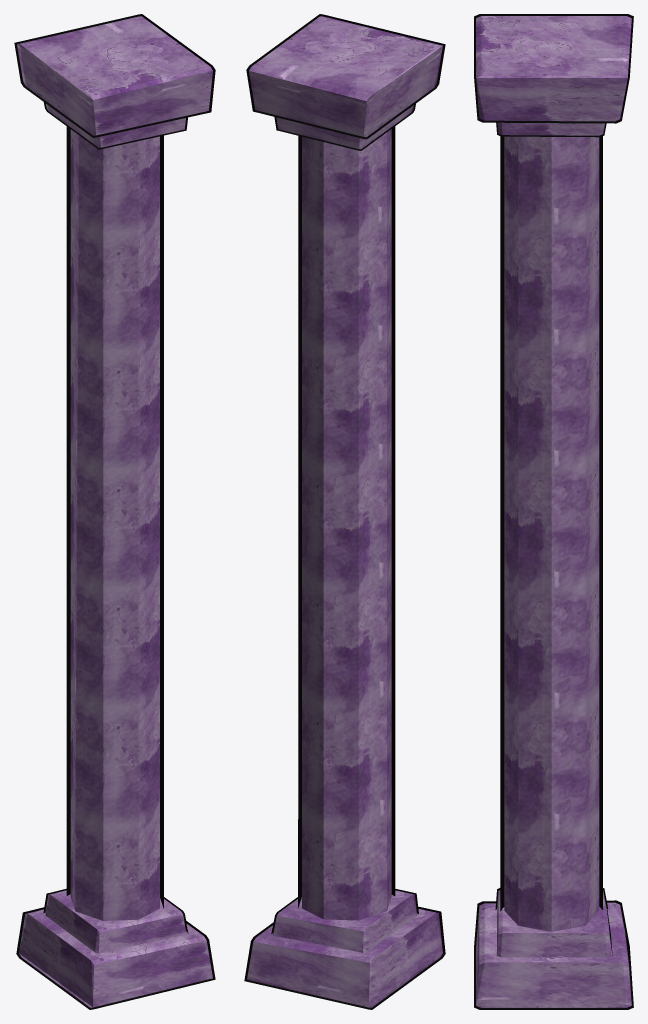
The model's file is entity59372.gltf.
3 renders of one model, left to right at view 1: azimuth 30°, elevation 25°; view 2: azimuth 150°, elevation 25°; view 3: azimuth 270°, elevation 25°, orthographic. The views are drawn at different scales.
Visible parts, largest first — view 1: node_Str_Ruins_04_3_Art; view 2: node_Str_Ruins_04_3_Art; view 3: node_Str_Ruins_04_3_Art.
Boxes of the visible parts, box(x1,y1,x2,y2) form: node_Str_Ruins_04_3_Art: box(14, 14, 215, 1009); node_Str_Ruins_04_3_Art: box(244, 14, 445, 1009); node_Str_Ruins_04_3_Art: box(474, 14, 633, 1009).
Size of what is drawn, in the model's own units: 1.69 by 12 by 1.86.
